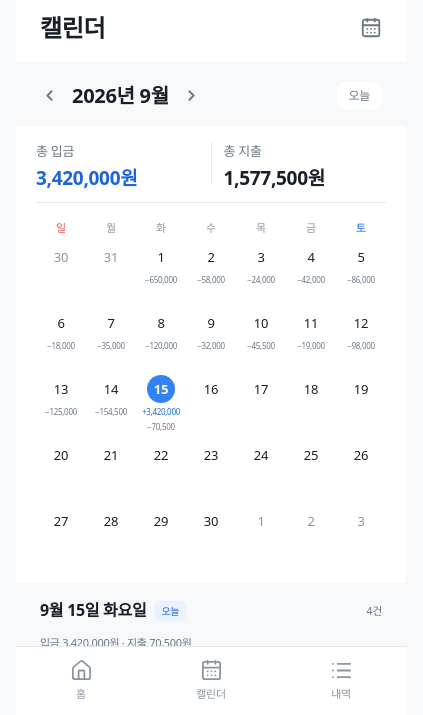
Test: CalendarPage › 날짜를 누르면 그 날의 내역으로 바뀌고 URL 에 반영된다
Click the button named "9월 14일" at (111, 407), box [86,375,136,439]
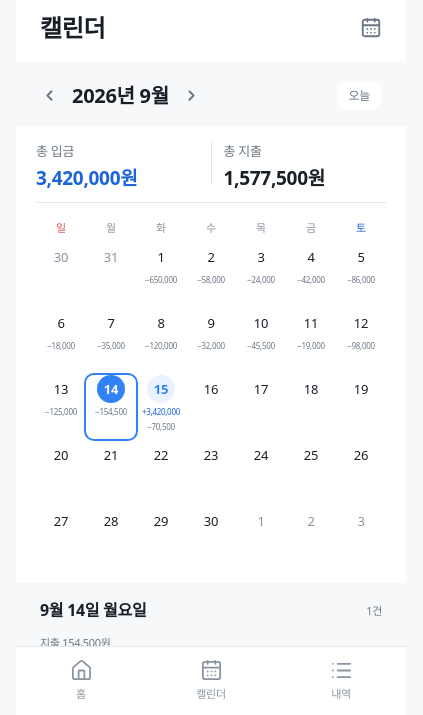
Expected: the heading "9월 14일 월요일" is shown, [40,599,146,623]
